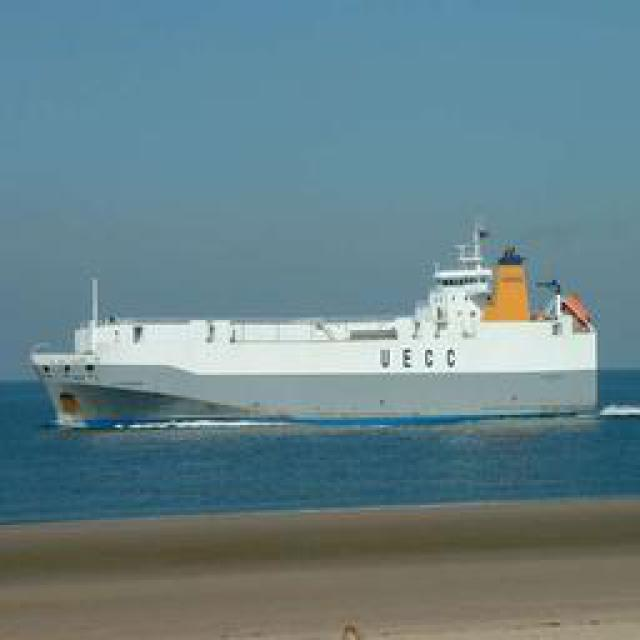Ship: (23, 245, 601, 428)
